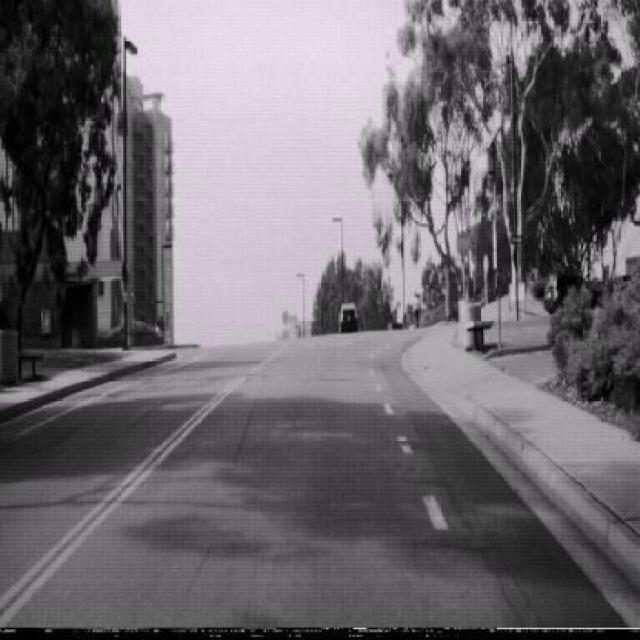stop: (455, 228, 471, 258)
